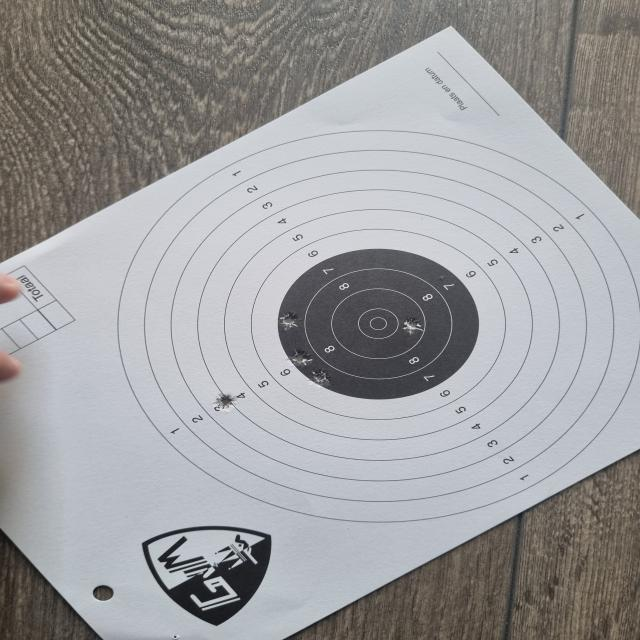10: (403, 318, 424, 335)
5: (213, 394, 236, 408)
8: (288, 349, 312, 366), (279, 312, 300, 330), (309, 370, 330, 388)
Black Contour: (278, 248, 480, 400)
Target: (116, 130, 640, 524)
